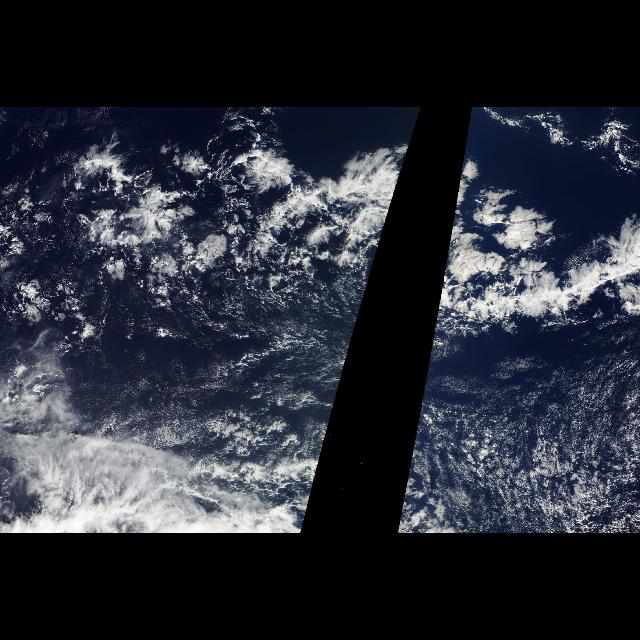Sugar: (72, 286, 368, 464), (418, 340, 640, 532)
